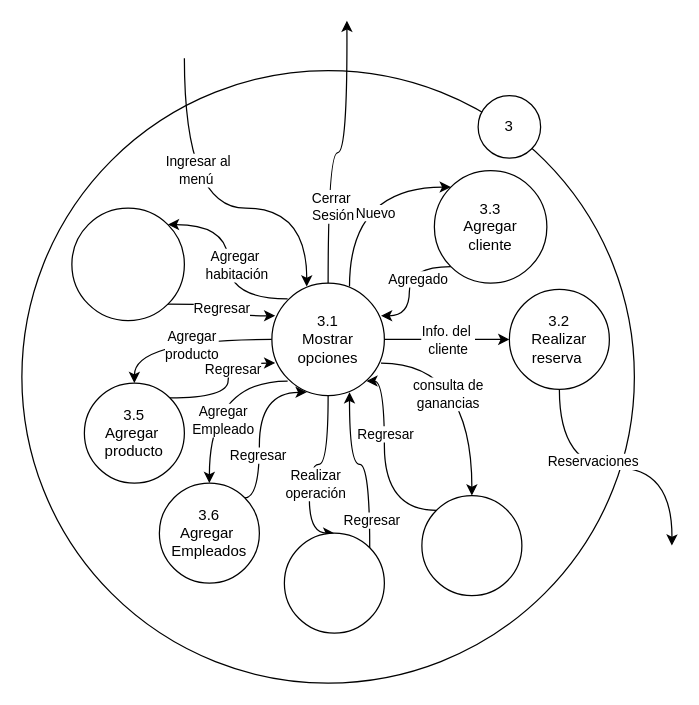
This 699x705 diagram has some shape labels left out. Each missing label, with the centre of its shape:
2.7 Abrir calculadora: (333,582)
2.8 Ver ganancias mensuales: (471,545)
3.4 Agregar Habitación: (127,264)
